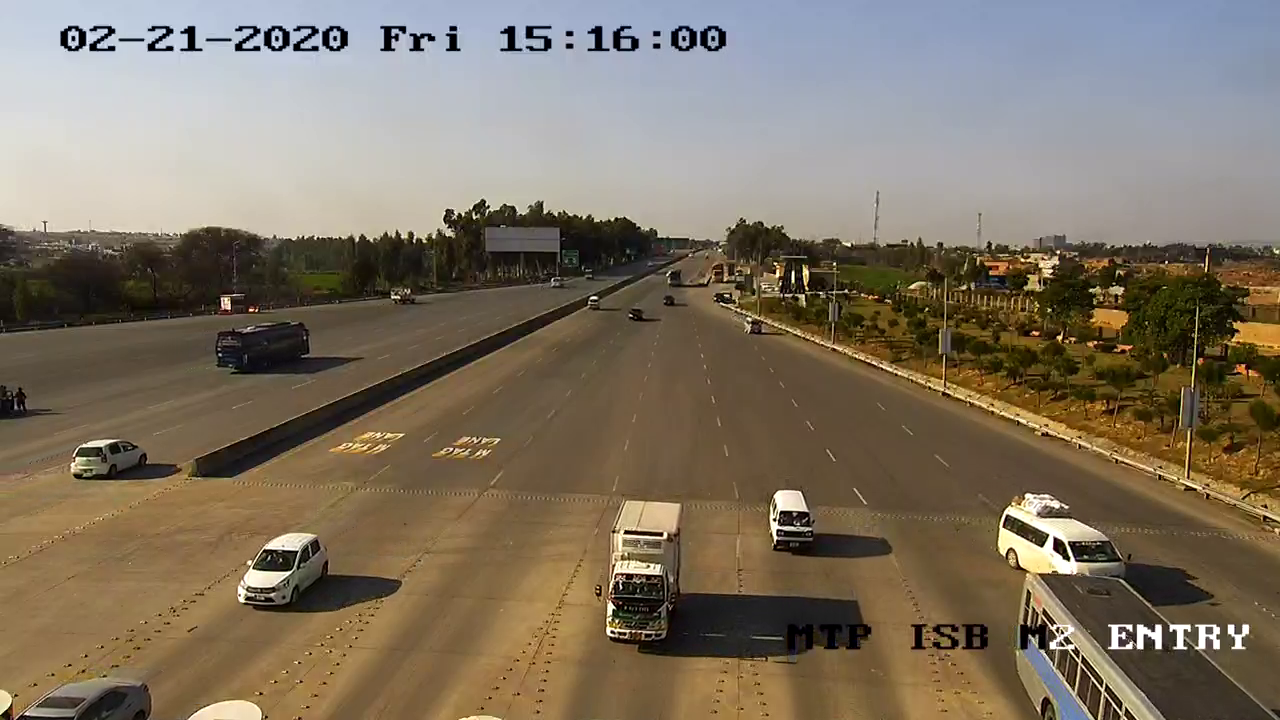f1: (234, 525, 331, 613), (760, 480, 823, 557)
f2: (992, 489, 1134, 589)
f5: (587, 492, 695, 657)
